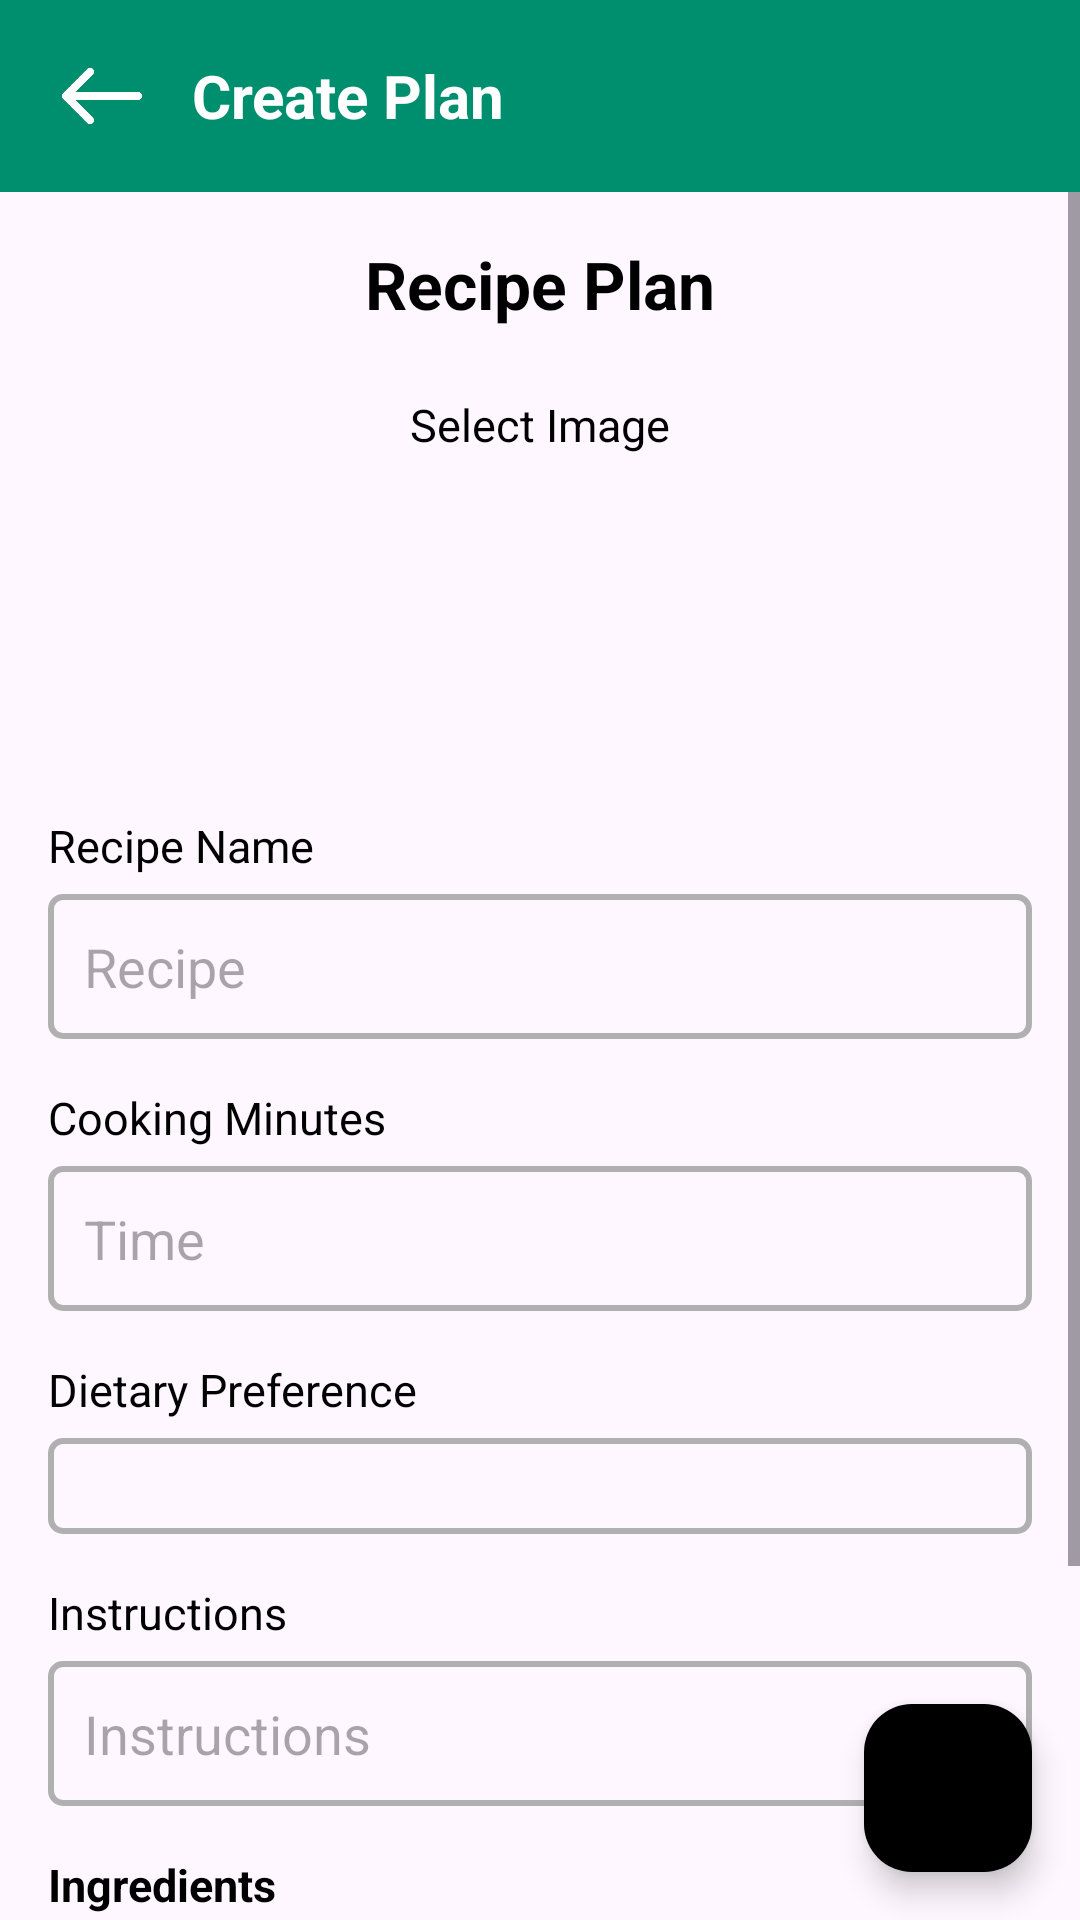

Icons on this 1080w x 1920h Android screen, each with its box as {"left": x1, "top": y1, "right": x2, "bottom": y2}:
back arrow: {"left": 62, "top": 68, "right": 142, "bottom": 124}
